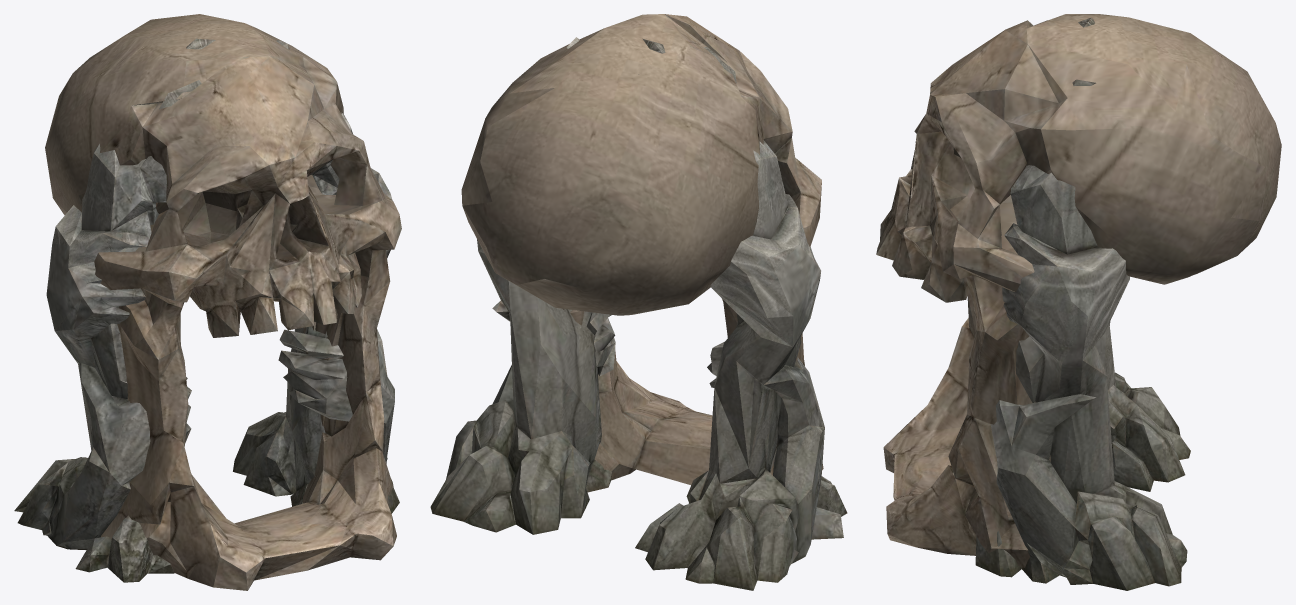
The model's file is portals2.glb.
3 renders of one model, left to right at view 1: azimuth 30°, elevation 25°; view 2: azimuth 150°, elevation 25°; view 3: azimuth 270°, elevation 25°, orthographic. The views are drawn at different scales.
Visible parts, largest first — view 1: portal_skull, portal_hands; view 2: portal_skull, portal_hands; view 3: portal_skull, portal_hands.
Boxes of the visible parts, bbox=[...] form: portal_skull: bbox=[45, 14, 401, 590]; portal_hands: bbox=[14, 35, 399, 582]; portal_skull: bbox=[461, 14, 823, 484]; portal_hands: bbox=[430, 37, 847, 590]; portal_skull: bbox=[876, 14, 1281, 567]; portal_hands: bbox=[975, 17, 1190, 590].
Size of the model in its own units: 0.76 by 1 by 0.7656.
1 material, 1 textured.
